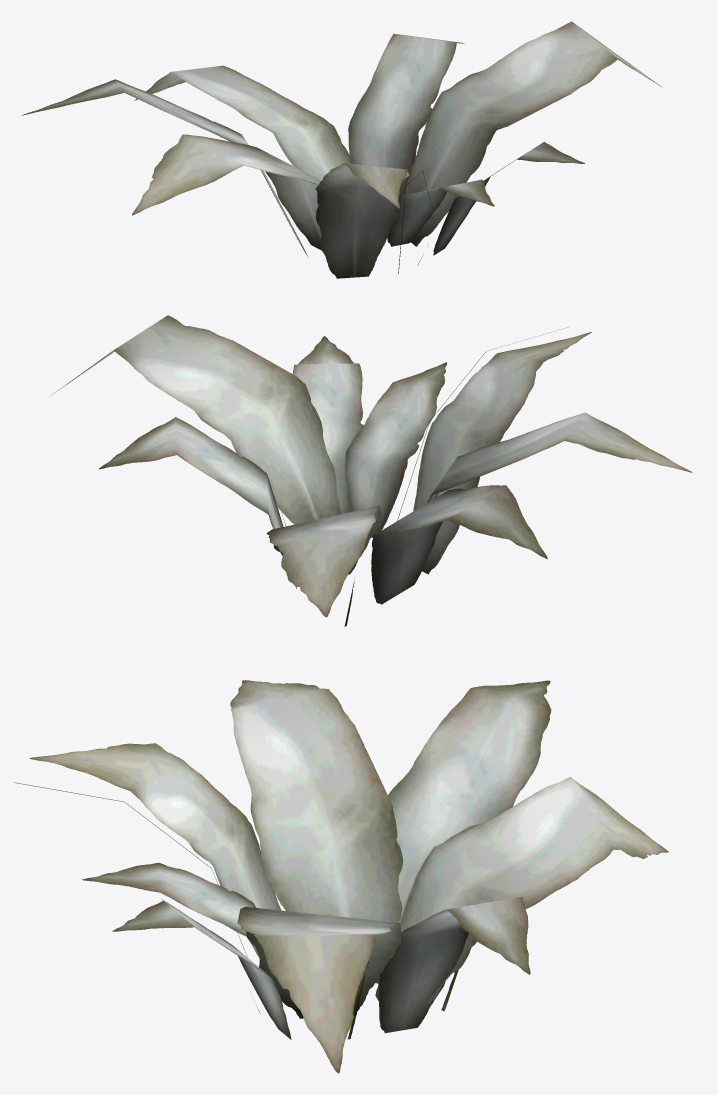
File: h5_xue_cao_a.FBX
The picture shows the model from 3 angles, top to bottom: view 1: azimuth 30°, elevation 25°; view 2: azimuth 150°, elevation 25°; view 3: azimuth 270°, elevation 25°; orthographic projection. The views are drawn at different scales.
Visible parts, largest first — view 1: h5_xue_cao_a; view 2: h5_xue_cao_a; view 3: h5_xue_cao_a.
Boxes of the visible parts, x1=… form: h5_xue_cao_a: x1=21, y1=21, x2=662, y2=278; h5_xue_cao_a: x1=52, y1=315, x2=692, y2=626; h5_xue_cao_a: x1=14, y1=680, x2=668, y2=1073.
Bounding box in the file's own units: 1.83 × 0.5476 × 1.49.
